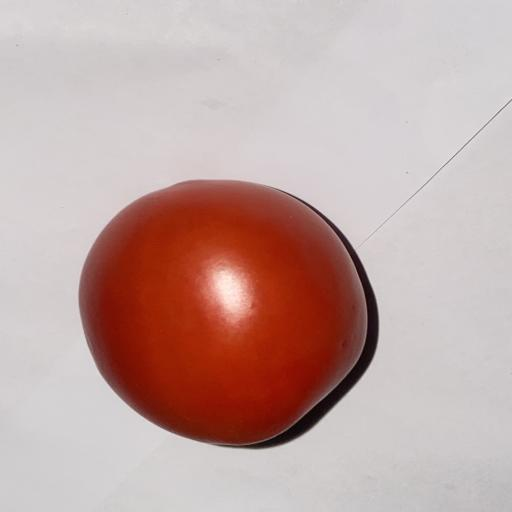ripe: (79, 180, 367, 445)
